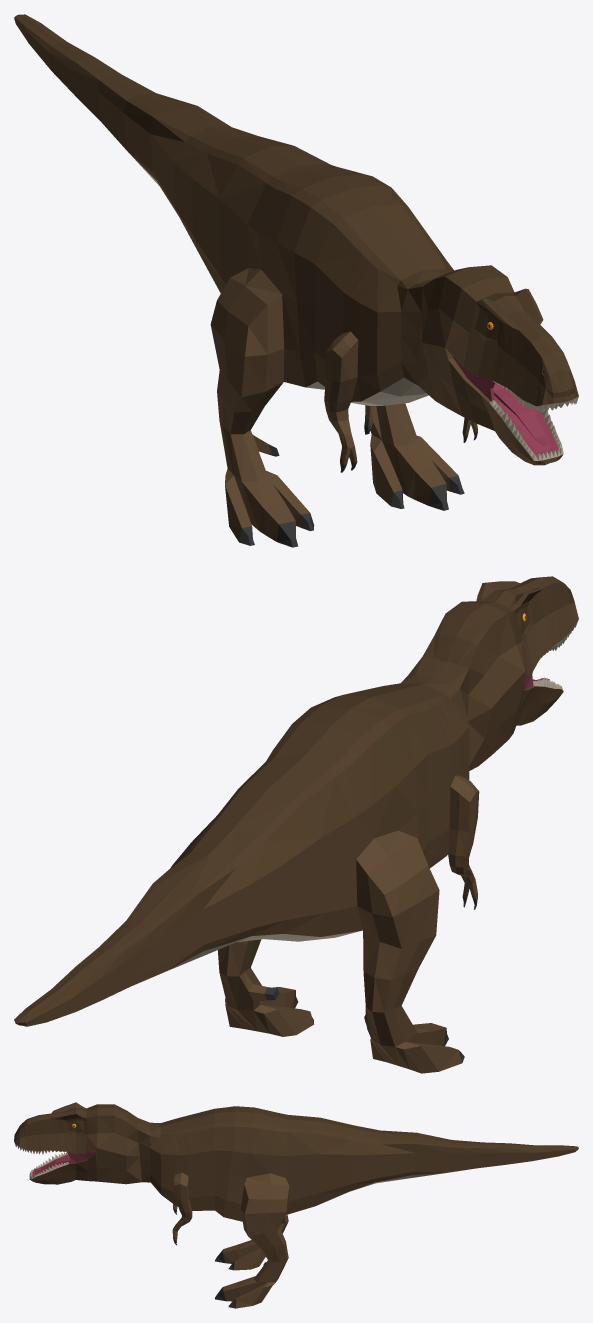
File: tyrannosaurus.dae
3 renders of one model, top to bottom at view 1: azimuth 30°, elevation 25°; view 2: azimuth 150°, elevation 25°; view 3: azimuth 270°, elevation 25°, orthographic. The views are drawn at different scales.
Parts seen in each view (by area): view 1: Plane; view 2: Plane; view 3: Plane.
Boxes of the visible parts, x1=… form: Plane: x1=14, y1=14, x2=578, y2=547; Plane: x1=14, y1=576, x2=578, y2=1073; Plane: x1=14, y1=1102, x2=578, y2=1308.
Size of the model in its own units: 0.9924 by 4.21 by 1.42.
